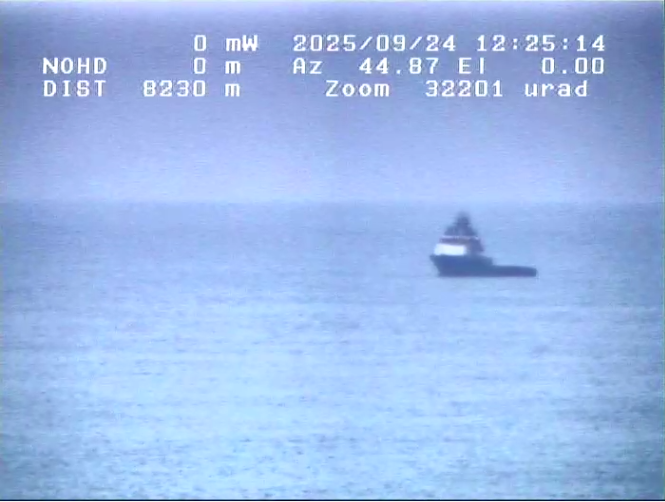OFFSHORE_SUPPLY_VESSEL: (419, 197, 562, 290)
